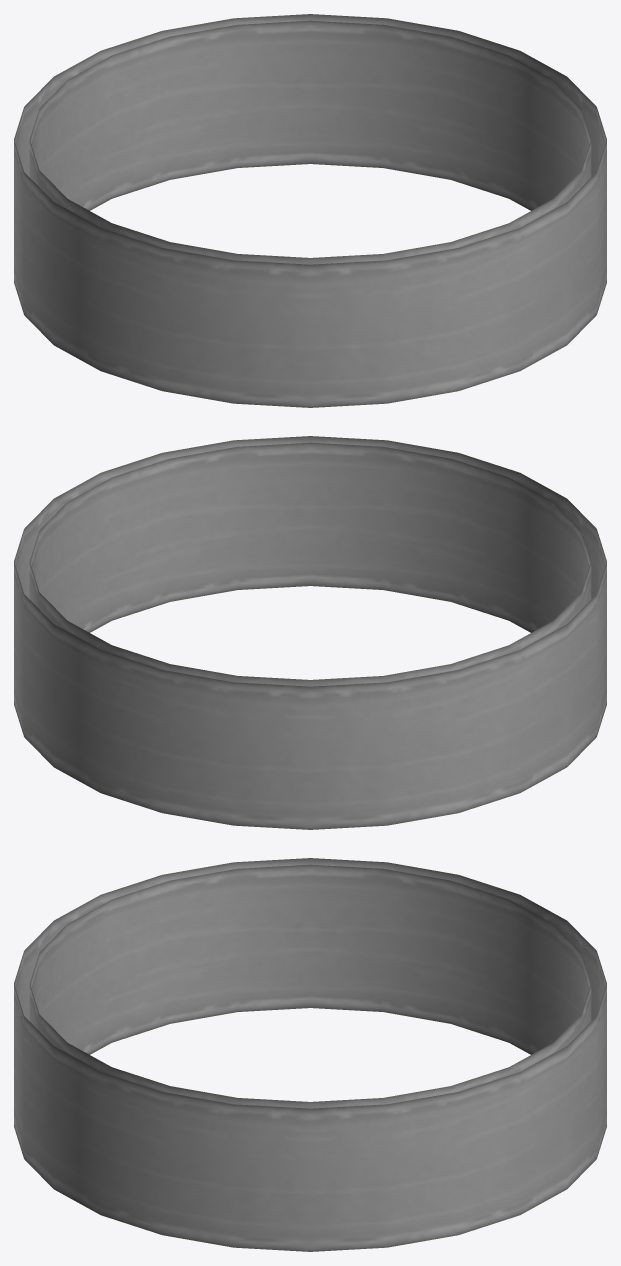
Rendered from black_knight_engine_s0p5_1_fairing.obj.
3 views of the same model, one above another, from view 1: azimuth 30°, elevation 25°; view 2: azimuth 150°, elevation 25°; view 3: azimuth 270°, elevation 25° (orthographic).
Parts seen in each view (by area): view 1: fairing1; view 2: fairing1; view 3: fairing1.
Boxes of the visible parts, box(x1,y1,x2,y2) form: fairing1: box(14, 14, 606, 407); fairing1: box(14, 436, 606, 829); fairing1: box(14, 858, 606, 1251).
Bounding box in the file's own units: 0.9375 × 0.25 × 0.9375.
Materials: 1 (1 with a texture image).
